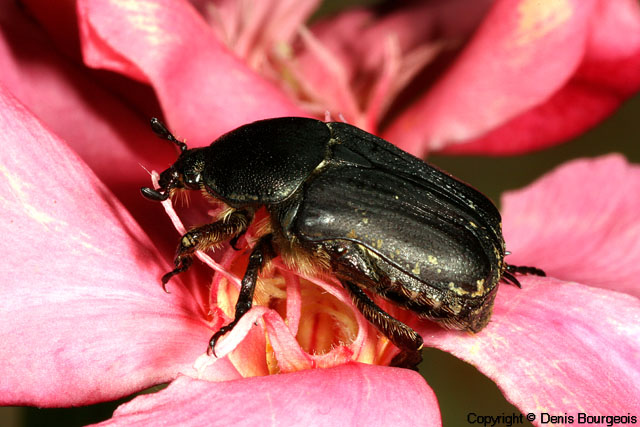Protaetia_oblonga: (140, 98, 554, 368)
